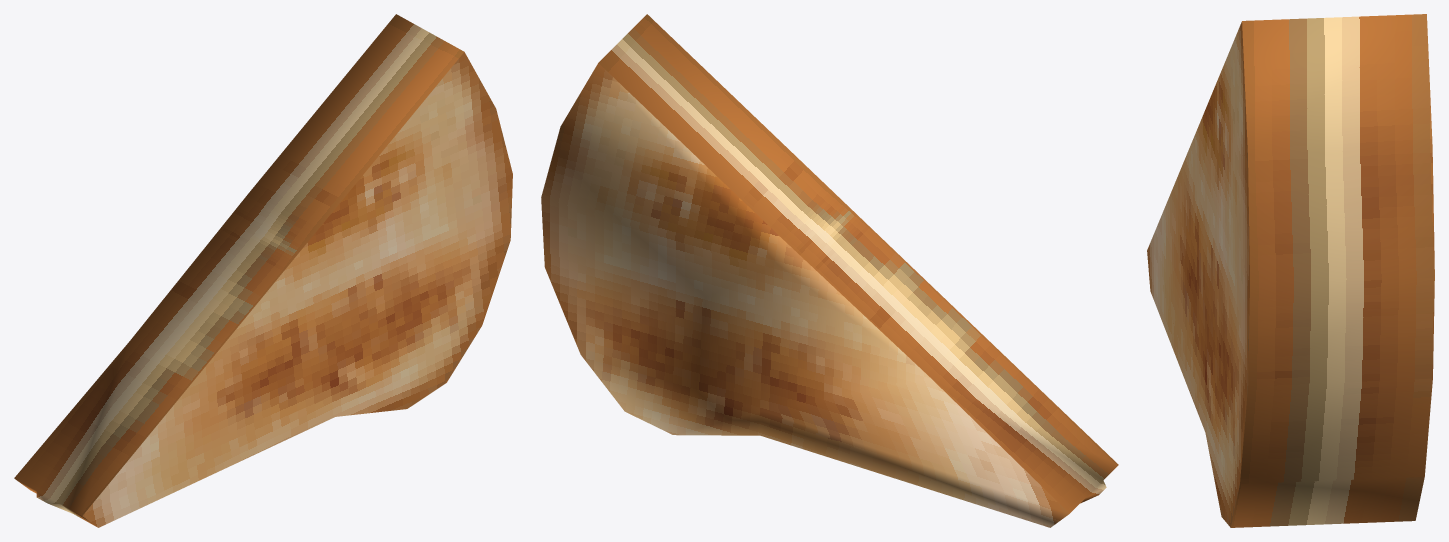
The model's file is H_SandwichPiece.fbx.
3 views of the same model, side by side, from view 1: azimuth 30°, elevation 25°; view 2: azimuth 150°, elevation 25°; view 3: azimuth 270°, elevation 25° (orthographic). The views are drawn at different scales.
Parts seen in each view (by area): view 1: Slice; view 2: Slice; view 3: Slice.
Part boxes in pixels (box(x1,y1,x2,y2)): Slice: box(14, 14, 512, 527); Slice: box(541, 14, 1118, 527); Slice: box(1147, 14, 1434, 527).
Bounding box in the file's own units: 24.48 × 17.71 × 7.91.
